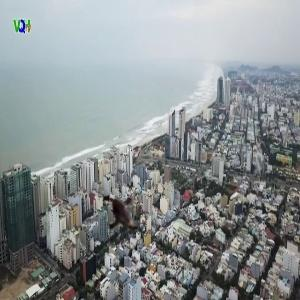drone: (89, 174, 164, 249)
